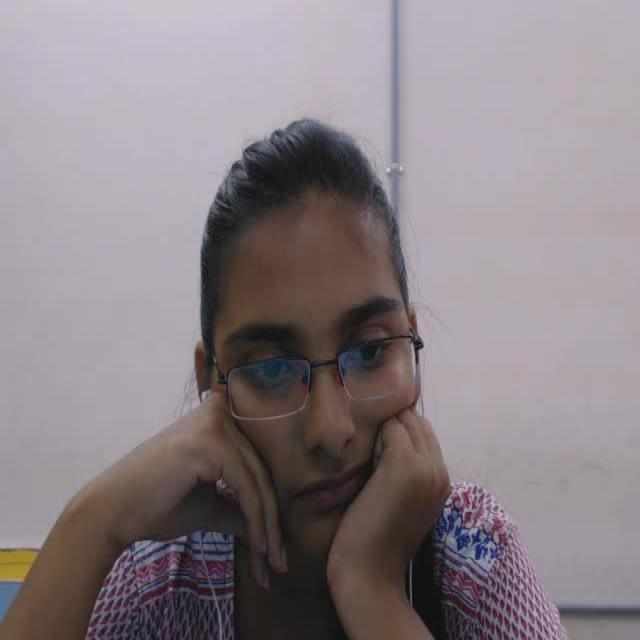Bored: (188, 97, 438, 595)
